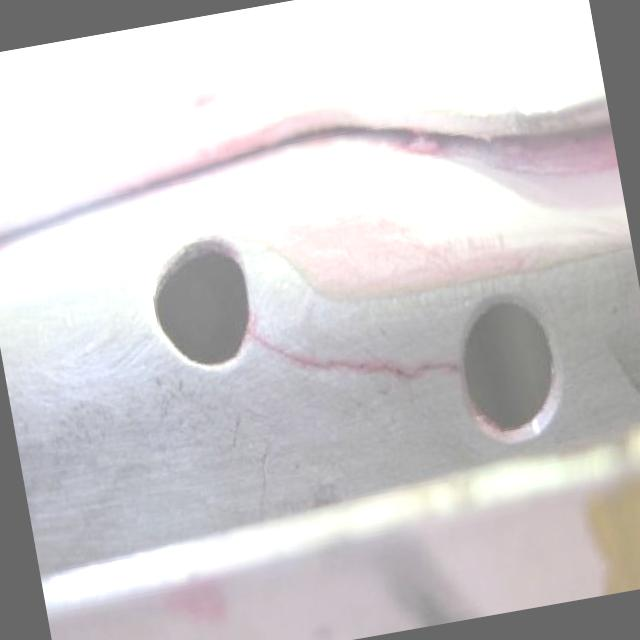crack: (240, 321, 466, 388)
